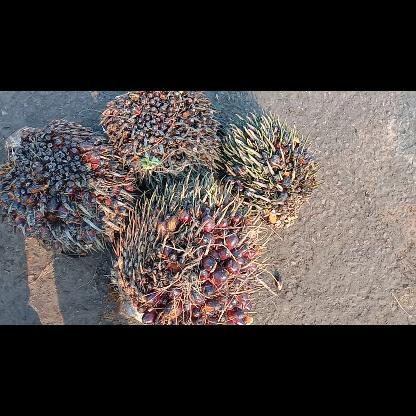TBS abnormal: (0, 115, 140, 259), (216, 107, 328, 231), (97, 92, 225, 188)
TBS masak: (110, 168, 268, 324)
